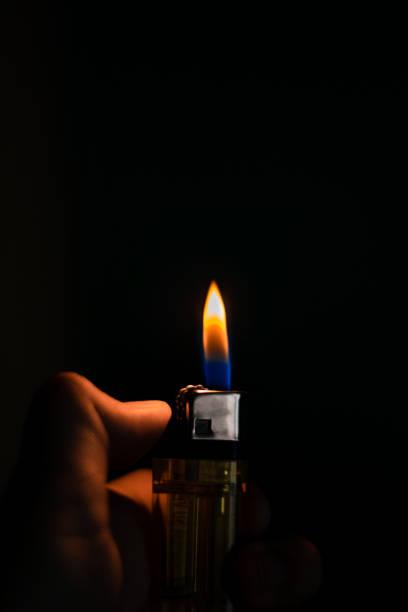Fire: (194, 277, 234, 387)
